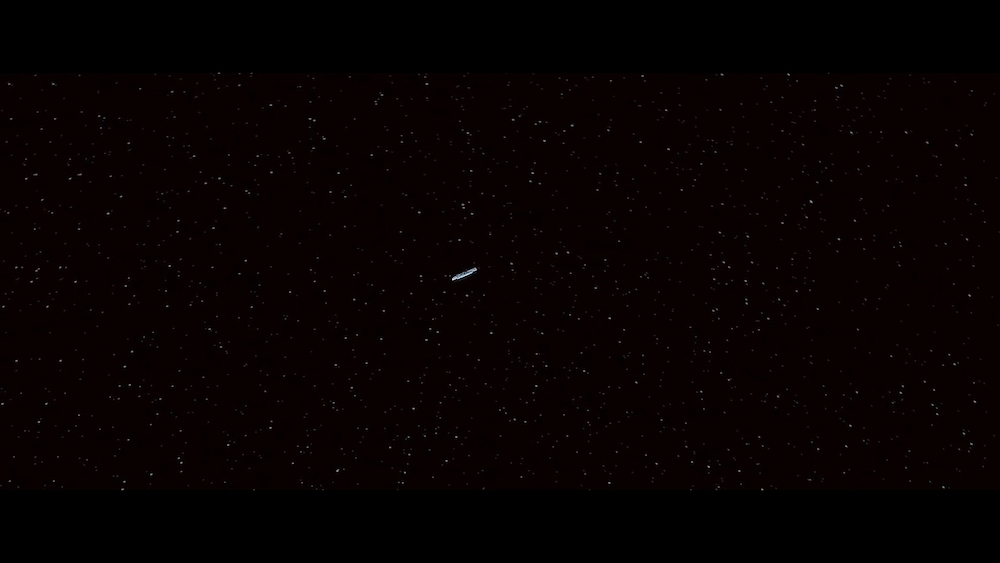Millennium Falcon: (453, 268, 477, 283)
